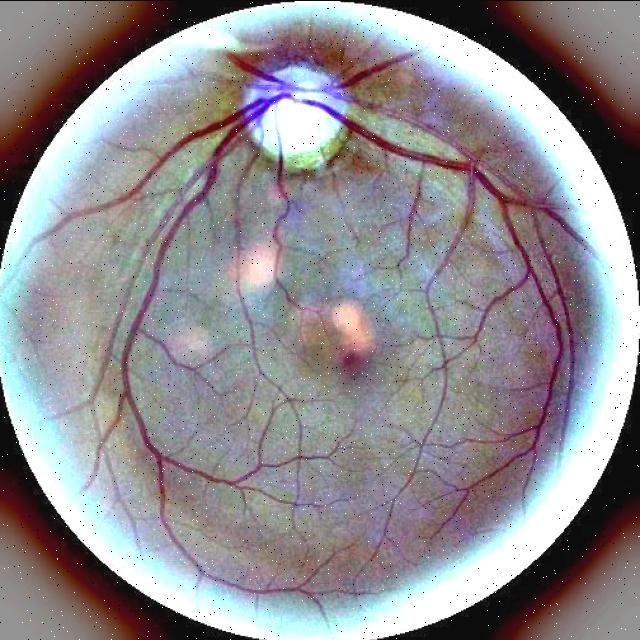Macula: (340, 350, 363, 373)
Optic Disk: (243, 65, 348, 169)
